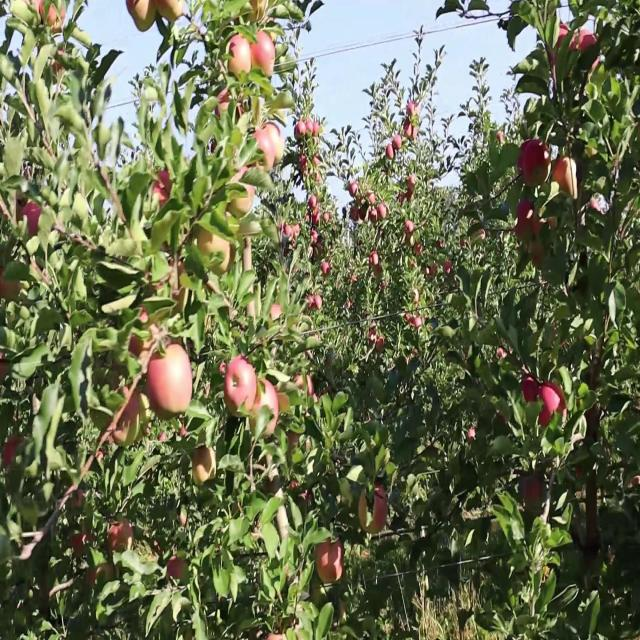apple: (144, 348, 193, 416), (148, 248, 186, 313), (160, 348, 193, 416), (148, 355, 180, 418), (224, 355, 257, 416), (200, 227, 235, 279), (252, 376, 280, 439), (116, 383, 143, 441), (520, 142, 552, 188), (360, 483, 388, 535), (232, 163, 256, 219), (316, 540, 344, 585), (540, 383, 568, 427), (228, 35, 252, 82), (120, 383, 143, 432), (252, 127, 274, 174), (252, 35, 276, 78), (108, 519, 135, 555), (192, 447, 217, 485), (552, 156, 575, 196), (20, 199, 43, 238), (152, 170, 173, 212), (540, 383, 560, 427), (132, 0, 156, 36), (268, 120, 287, 165), (216, 92, 243, 123), (212, 241, 235, 277), (156, 0, 185, 27), (516, 199, 535, 240), (40, 7, 67, 34), (196, 227, 217, 260), (4, 433, 23, 469), (72, 526, 94, 556), (64, 483, 87, 510), (128, 334, 151, 361), (524, 476, 544, 507), (0, 270, 20, 300), (216, 92, 235, 123), (168, 554, 187, 583), (296, 369, 315, 396), (292, 483, 315, 505), (580, 28, 599, 53), (524, 376, 540, 405), (368, 327, 385, 354), (532, 241, 547, 268), (532, 213, 547, 238), (88, 568, 106, 588), (308, 291, 324, 313), (248, 1, 262, 23), (516, 220, 531, 240), (404, 120, 417, 142), (312, 156, 322, 183), (308, 291, 320, 313), (408, 99, 421, 119), (280, 391, 291, 414), (0, 355, 9, 382), (296, 120, 307, 142), (308, 120, 320, 140), (272, 305, 284, 324), (300, 156, 309, 178), (496, 348, 510, 361), (376, 334, 385, 354), (392, 135, 404, 149), (348, 184, 359, 199), (548, 220, 559, 235), (308, 376, 315, 398), (468, 426, 477, 443), (368, 206, 376, 224), (388, 142, 395, 162), (296, 376, 305, 391), (496, 414, 507, 425), (368, 191, 376, 206), (380, 206, 388, 220), (352, 206, 359, 220), (360, 206, 367, 220)
